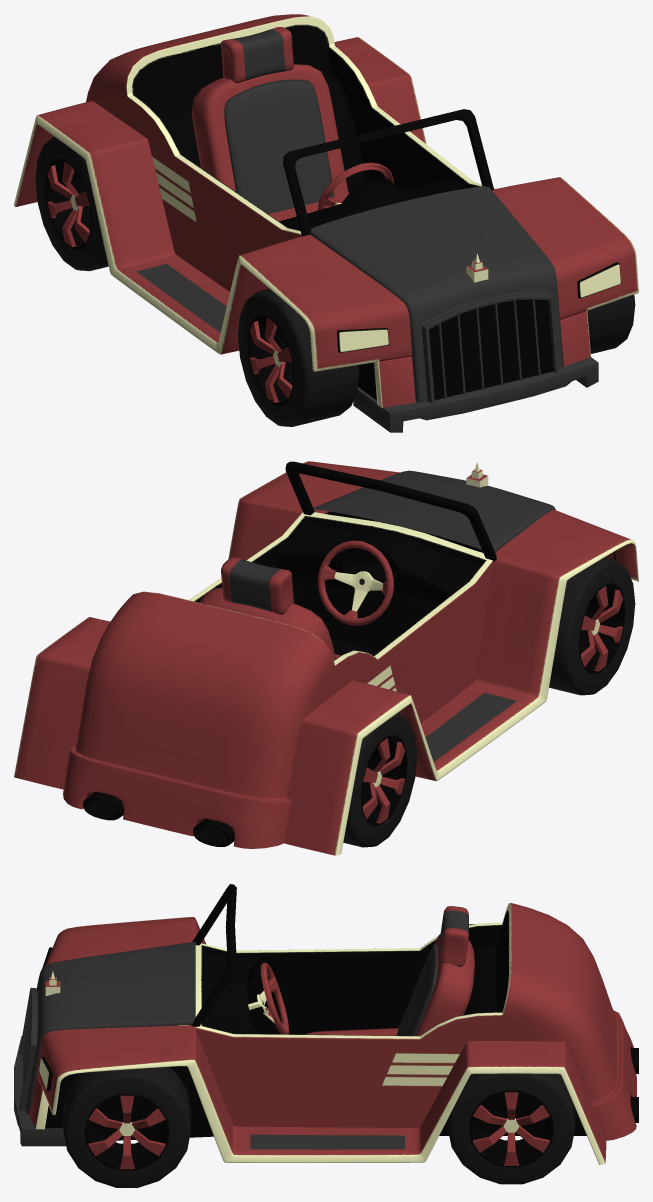
File: RoroJongrang_Fix.fbx
3 views of the same model, one above another, from view 1: azimuth 30°, elevation 25°; view 2: azimuth 150°, elevation 25°; view 3: azimuth 270°, elevation 25° (orthographic). The views are drawn at different scales.
Visible parts, largest first — view 1: fender.001, Cube.001, Cube.020, Cube.035, Circle.002, Circle.020, Cube.022, Cube.023, Cube.006, dasbor.001, Circle.024, Cube.003 (+2 smaller); view 2: Cube.020, fender.001, dasbor.001, Cube.001, Circle.002, Circle.020, Cube.035, Cube.023, wheel steer.003, Cylinder.010; view 3: Cube.020, fender.001, Cube.001, Circle.024, Circle.001, Cube.035, dasbor.001, Cube.005, Cube.023, Cube.026, Cube.022, wheel steer.003 (+1 smaller).
Part boxes in pixels (box(x1,y1,x2,y2)): fender.001: box(14, 37, 638, 371); Cube.001: box(310, 186, 563, 403); Cube.020: box(86, 14, 494, 291); Cube.035: box(192, 27, 349, 221); Circle.002: box(238, 289, 359, 426); Circle.020: box(35, 136, 108, 271); Cube.022: box(353, 357, 598, 432); Cube.023: box(283, 109, 493, 236); Cube.006: box(374, 311, 590, 408); dasbor.001: box(279, 177, 467, 236); Circle.024: box(587, 294, 635, 353); Cube.003: box(337, 262, 621, 352); Cube.020: box(63, 512, 494, 848); fender.001: box(14, 461, 638, 855); dasbor.001: box(275, 520, 480, 610); Cube.001: box(313, 470, 555, 552); Circle.002: box(549, 557, 635, 695); Circle.020: box(343, 712, 417, 847); Cube.035: box(199, 557, 340, 659); Cube.023: box(285, 461, 496, 561); wheel steer.003: box(317, 540, 393, 625); Cylinder.010: box(83, 792, 234, 846); Cube.020: box(194, 903, 636, 1140); fender.001: box(36, 917, 606, 1164); Cube.001: box(19, 941, 195, 1114); Circle.024: box(63, 1067, 190, 1187); Circle.001: box(447, 1073, 575, 1184); Cube.035: box(305, 906, 474, 1035); dasbor.001: box(189, 951, 258, 1033); Cube.005: box(45, 1025, 213, 1140); Cube.023: box(192, 884, 236, 1026); Cube.026: box(439, 1093, 586, 1135); Cube.022: box(14, 1036, 66, 1146); wheel steer.003: box(257, 962, 289, 1034).
Bounding box in the file's own units: 84.13 × 138 × 242.
1 material, 1 textured.
